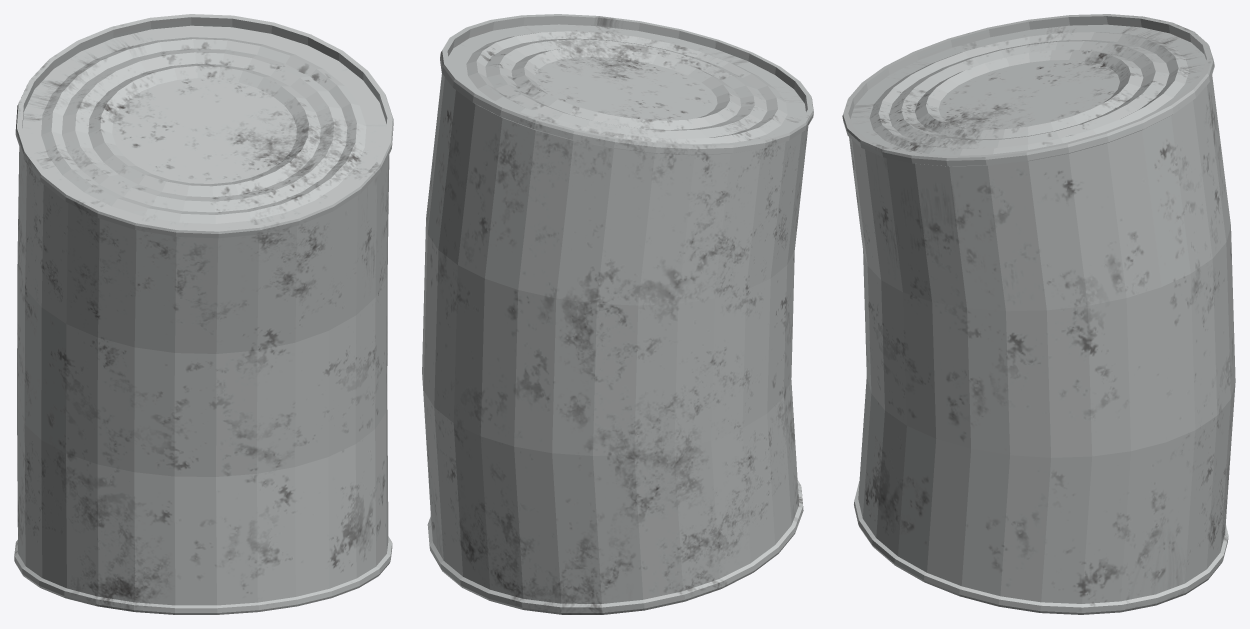
The model's file is bend_low_1.obj.
3 renders of one model, left to right at view 1: azimuth 30°, elevation 25°; view 2: azimuth 150°, elevation 25°; view 3: azimuth 270°, elevation 25°, orthographic.
Visible parts, largest first — view 1: Cam_l__0; view 2: Cam_l__0; view 3: Cam_l__0.
Boxes of the visible parts, box(x1,y1,x2,y2) form: Cam_l__0: box(14, 14, 393, 614); Cam_l__0: box(422, 14, 813, 614); Cam_l__0: box(842, 14, 1235, 614).
Bounding box in the file's own units: 0.0948 × 0.1335 × 0.0974.
Materials: 1 (1 with a texture image).
